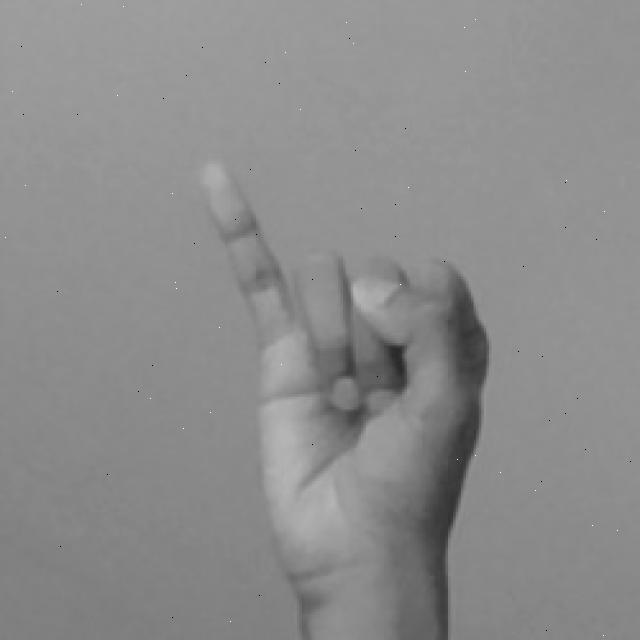I: (194, 158, 496, 640)
